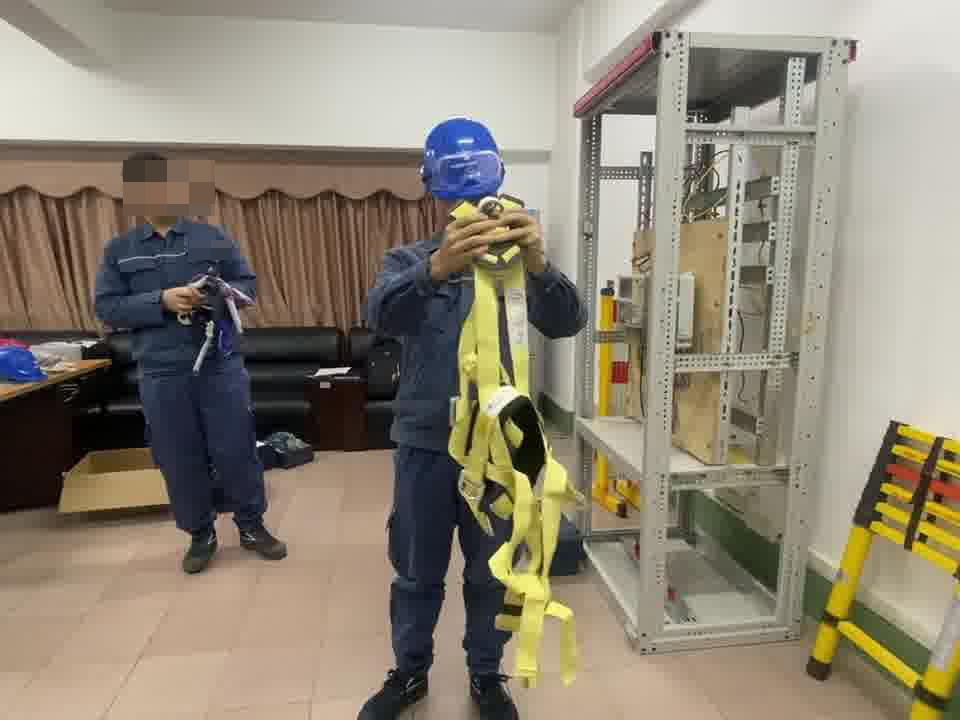downsuit: (385, 458, 506, 679), (140, 376, 267, 528)
halt: (419, 116, 508, 208)
hand: (429, 213, 494, 284), (494, 206, 553, 273), (160, 287, 203, 316)
noear: (121, 183, 151, 208)
person: (359, 110, 580, 718), (94, 149, 286, 569)
unhalt: (122, 149, 186, 227)
upsuit: (364, 211, 564, 453), (99, 219, 257, 371)
